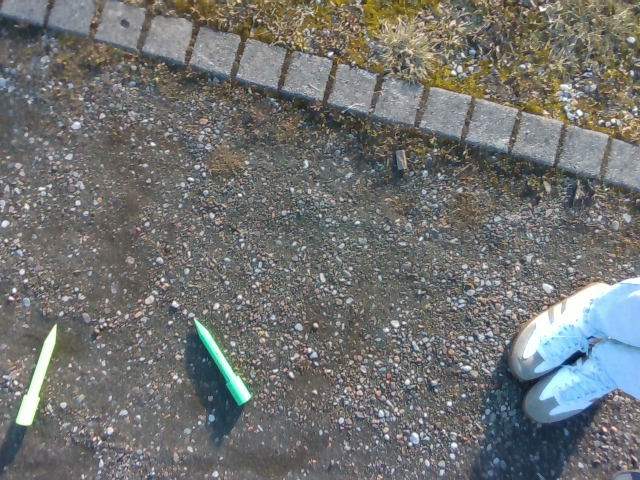Probe: (187, 308, 256, 412), (11, 318, 62, 433)
